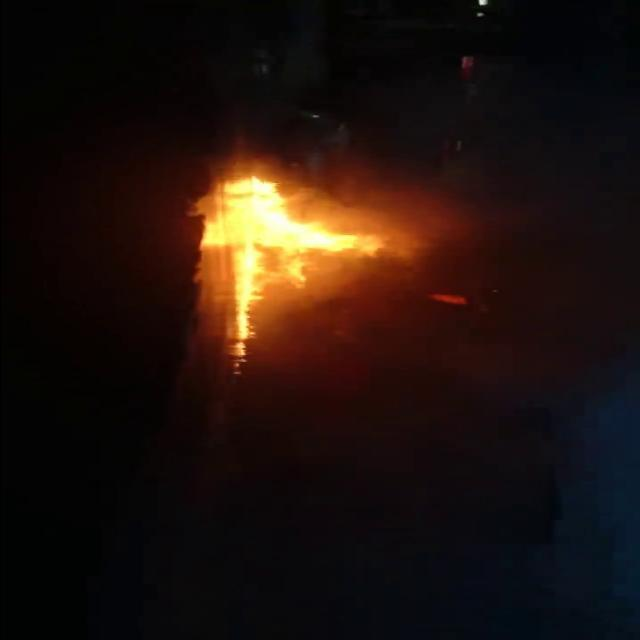Fire: (230, 176, 376, 371)
